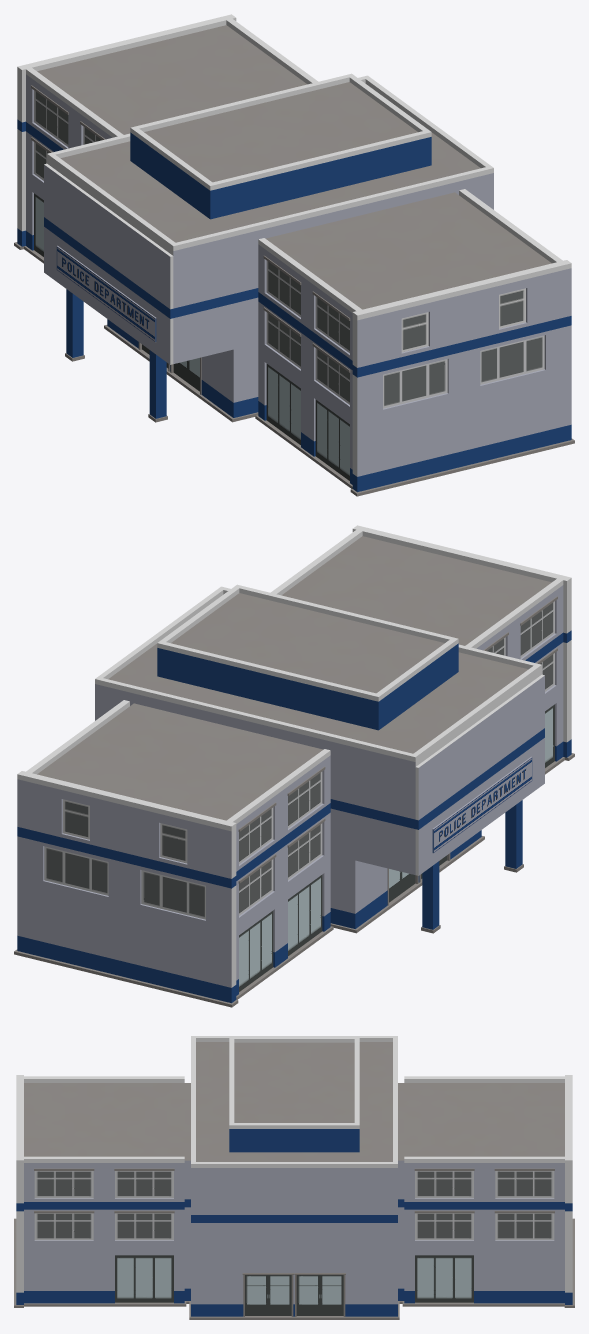
Rendered from policeStation.fbx.
3 renders of one model, top to bottom at view 1: azimuth 30°, elevation 25°; view 2: azimuth 150°, elevation 25°; view 3: azimuth 270°, elevation 25°, orthographic. The views are drawn at different scales.
Visible parts, largest first — view 1: sptp_building_33; view 2: sptp_building_33; view 3: sptp_building_33.
Part boxes in pixels (x1=…): sptp_building_33: x1=14, y1=14, x2=574, y2=496; sptp_building_33: x1=14, y1=525, x2=574, y2=1007; sptp_building_33: x1=14, y1=1036, x2=574, y2=1319.
Bounding box in the file's own units: 1506 × 959 × 2735.
1 material, 1 textured.
